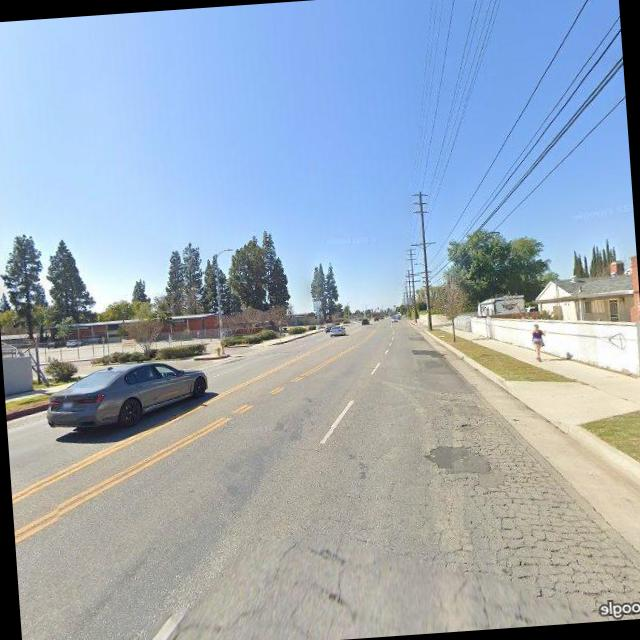crack: (323, 363, 640, 638)
